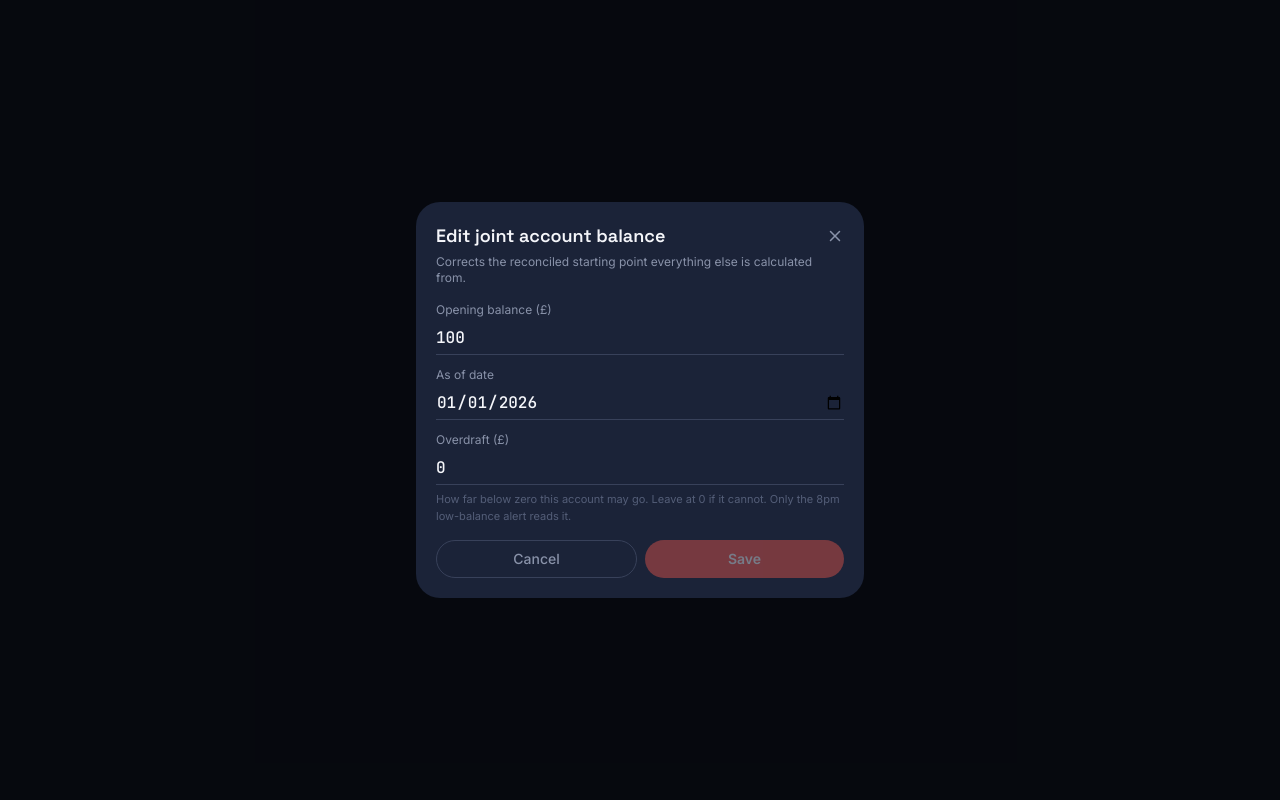
Test: the joint account › changing the opening balance enables it
Replace the text in the number field labelled "Opening balance (£)" with "250" at point(640, 338), box [436, 322, 844, 355]
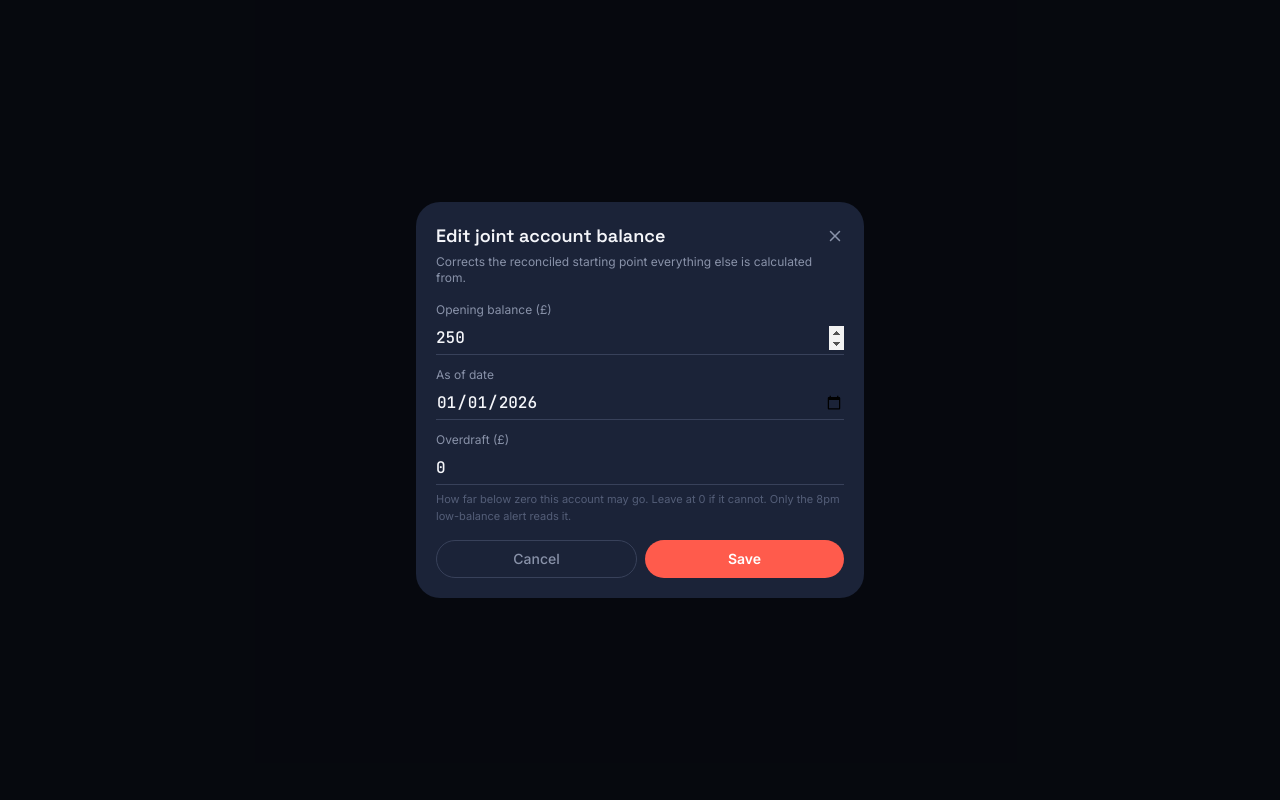
Expected: the button "Save" is enabled, [645, 540, 844, 578]
